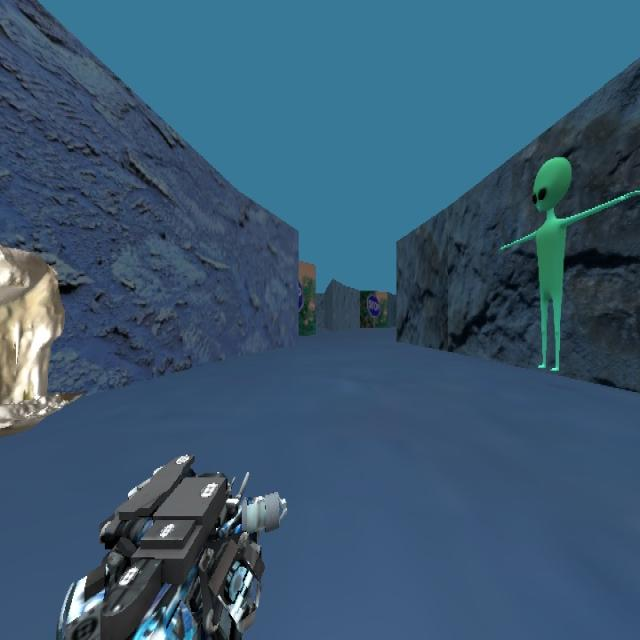Alien: (498, 155, 638, 372)
Ice: (0, 189, 84, 417)
Stop_Sign: (366, 292, 381, 317), (297, 277, 303, 312)
